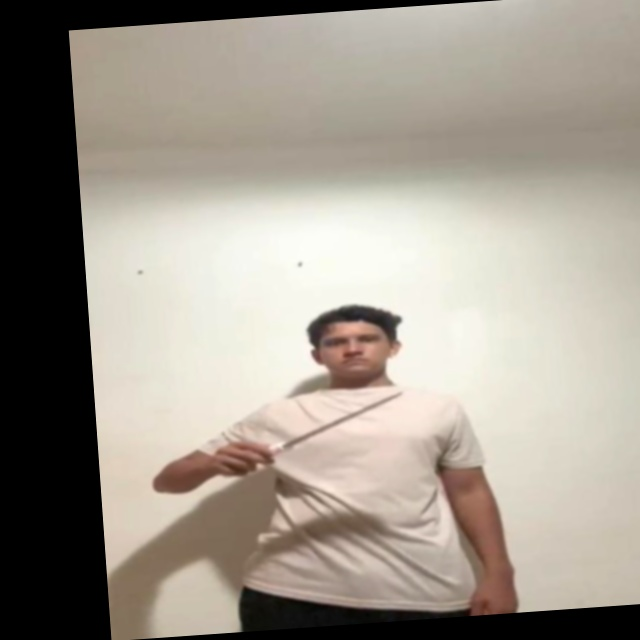Sharp-Object: (285, 389, 405, 445)
